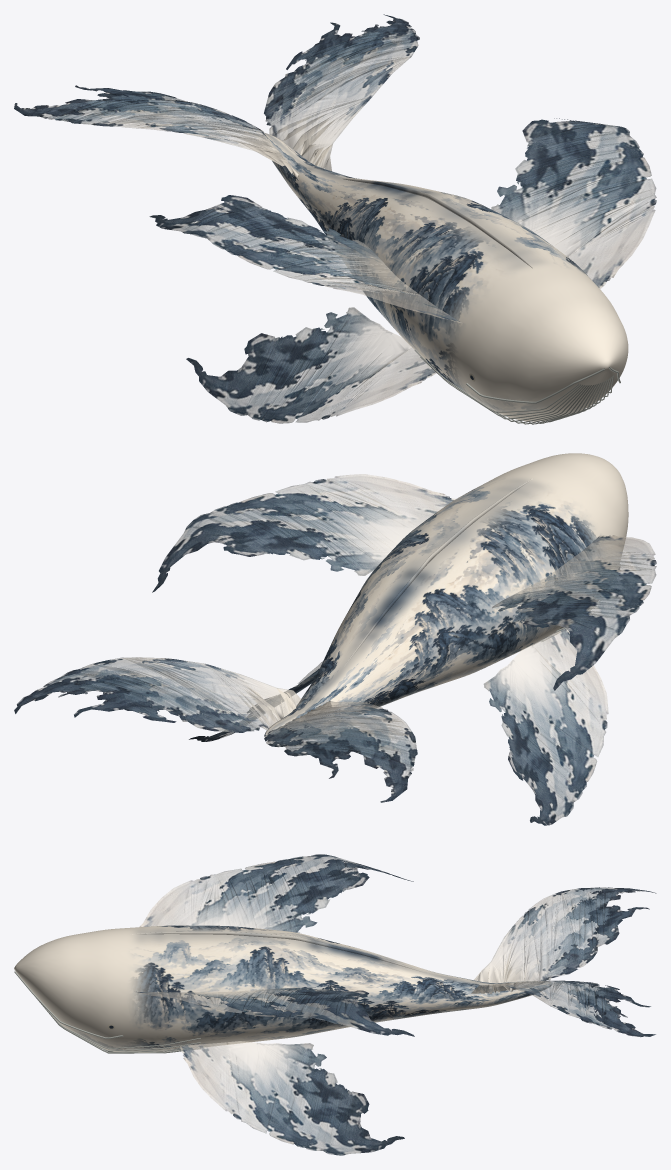
File: kun.glb
The picture shows the model from 3 angles, top to bottom: view 1: azimuth 30°, elevation 25°; view 2: azimuth 150°, elevation 25°; view 3: azimuth 270°, elevation 25°; orthographic projection. The views are drawn at different scales.
Visible parts, largest first — view 1: kun_body, kun_fluke, kun_fin_upper_R, kun_fin_lower_L, kun_fin_upper_L, kun_dorsal_ridge; view 2: kun_body, kun_fluke, kun_fin_upper_R, kun_fin_lower_L, kun_fin_upper_L, kun_dorsal_ridge, kun_fin_lower_R; view 3: kun_body, kun_fin_lower_R, kun_fluke, kun_fin_upper_L, kun_fin_upper_R, kun_dorsal_ridge.
Boxes of the visible parts, x1,y1,x2,y2 form: kun_body: (262,133,628,421); kun_fluke: (14,14,419,179); kun_fin_upper_R: (491,118,656,288); kun_fin_lower_L: (186,307,437,423); kun_fin_upper_L: (149,195,461,322); kun_dorsal_ridge: (342,178,532,268); kun_body: (264,453,628,737); kun_fluke: (14,657,417,802); kun_fin_upper_R: (152,474,455,592); kun_fin_lower_L: (483,628,608,825); kun_fin_upper_L: (492,535,656,690); kun_dorsal_ridge: (344,478,533,666); kun_fin_lower_R: (189,661,322,741); kun_body: (14,925,552,1052); kun_fin_lower_R: (180,1041,404,1155); kun_fluke: (471,887,656,1037); kun_fin_upper_L: (139,854,413,933); kun_fin_upper_R: (134,987,414,1036); kun_dorsal_ridge: (131,931,429,973).
Bounding box in the file's own units: 7.62 × 3.39 × 12.38.
Materials: 6 (3 with a texture image).
